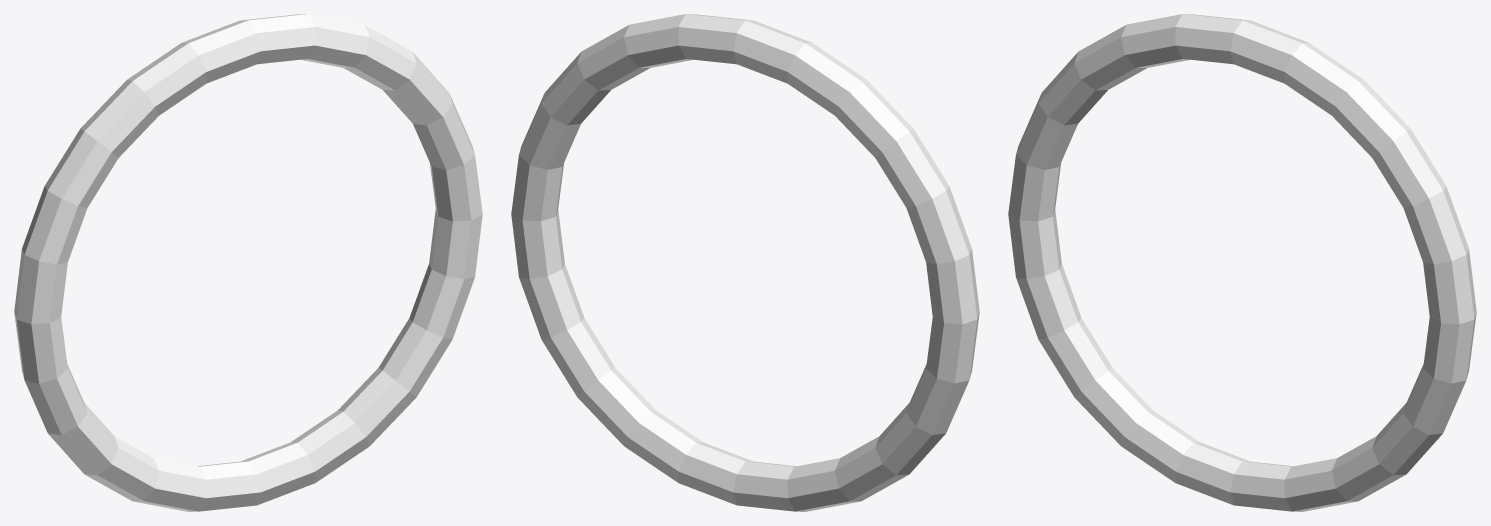
Rendered from pylon_core_1.obj.
3 renders of one model, left to right at view 1: azimuth 30°, elevation 25°; view 2: azimuth 150°, elevation 25°; view 3: azimuth 330°, elevation 25°, orthographic.
Visible parts, largest first — view 1: torus; view 2: torus; view 3: torus.
Part boxes in pixels (x1=…): torus: x1=14, y1=14, x2=482, y2=511; torus: x1=511, y1=14, x2=979, y2=511; torus: x1=1008, y1=14, x2=1476, y2=511.
Bounding box in the file's own units: 0.3438 × 0.3438 × 0.0312.
1 material, 1 textured.
